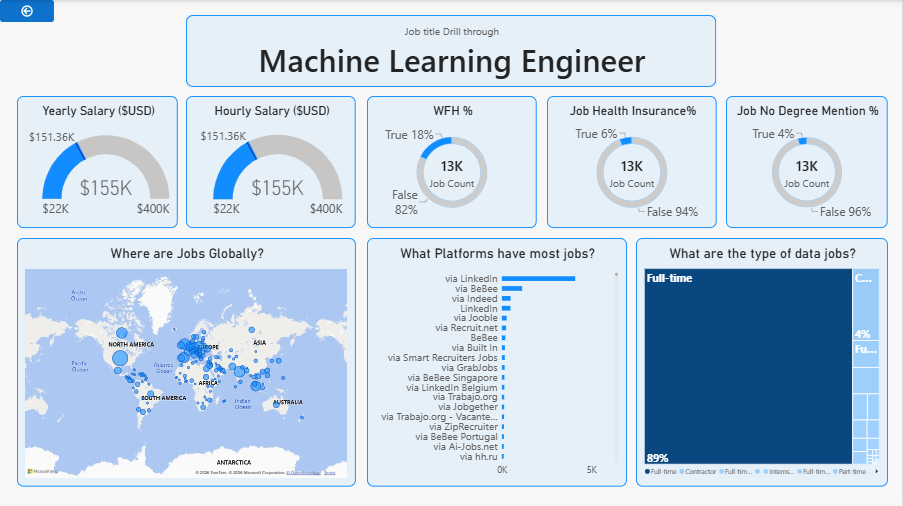

What the dashboard file says about the page in this screenshot:
{"tool":"powerbi","page":{"name":"Job Title Drill Through","canvas":[1920,1080],"ordinal":1},"visuals":[{"type":"cardVisual","fields":{"Data":["Min(job_postings_flat.job_title_short)1"]},"box":[170.1,19.1,1577.5,127.6],"z":0},{"type":"actionButton","box":[0,0,114.8,46.8],"z":1000},{"type":"gauge","title":"Yearly Salary ($USD)","fields":{"MaxValue":["Max(job_postings_flat.salary_year_avg)2"],"MinValue":["Min(job_postings_flat.salary_year_avg)1"],"TargetValue":["Avg(job_postings_flat.salary_year_avg)3"],"Y":["Median(job_postings_flat.salary_year_avg)"]},"box":[36.1,170,342.3,261.5],"z":2000},{"type":"gauge","title":"Hourly Salary ($USD)","fields":{"MaxValue":["Max(job_postings_flat.salary_year_avg)2"],"MinValue":["Min(job_postings_flat.salary_year_avg)1"],"TargetValue":["Avg(job_postings_flat.salary_year_avg)3"],"Y":["Median(job_postings_flat.salary_year_avg)"]},"box":[395.4,170,361.4,261.5],"z":3000},{"type":"donutChart","title":"WFH %","fields":{"Category":["job_postings_flat.job_work_from_home"],"Y":["CountNonNull(job_postings_flat.job_work_from_home)"]},"box":[780.2,170,361.4,261.5],"z":4000},{"type":"donutChart","title":"Job Health Insurance%","fields":{"Category":["job_postings_flat.job_health_insurance"],"Y":["CountNonNull(job_postings_flat.job_work_from_home)"]},"box":[1162.9,170.1,361.4,261.5],"z":5000},{"type":"donutChart","title":"Job No Degree Mention %","fields":{"Category":["job_postings_flat.job_no_degree_mention"],"Y":["CountNonNull(job_postings_flat.job_work_from_home)"]},"box":[1545.6,170,344.4,261.5],"z":6000},{"type":"map","title":"Where are Jobs Globally?","fields":{"Category":["job_postings_flat.job_country"],"Size":["CountNonNull(job_postings_flat.job_title_short)"]},"box":[36.1,450.7,720.7,529.4],"z":7000},{"type":"treemap","title":"What are the type of data jobs?","fields":{"Group":["job_postings_flat.job_schedule_type"],"Values":["CountNonNull(job_postings_flat.job_schedule_type)"]},"box":[1354.3,450.7,535.7,529.4],"z":8000},{"type":"barChart","title":"What Platforms have most jobs?","fields":{"Category":["job_postings_flat.job_via"],"Y":["CountNonNull(job_postings_flat.job_via)"]},"box":[780.2,450.7,552.8,529.4],"z":9000}]}

Visuals, with their boxes on the page's 1920x1080 design canvas (x1, y1, x2, y2). These are canvas units, not pixel positions in the 903x506 screenshot, which may show the page scaled, cropped or inside an application window:
cardVisual - Min(job_postings_flat.job_title_short)1: [x1=170, y1=19, x2=1748, y2=147]
actionButton: [x1=0, y1=0, x2=115, y2=47]
"Yearly Salary ($USD)" gauge: [x1=36, y1=170, x2=378, y2=432]
"Hourly Salary ($USD)" gauge: [x1=395, y1=170, x2=757, y2=432]
"WFH %" donutChart: [x1=780, y1=170, x2=1142, y2=432]
"Job Health Insurance%" donutChart: [x1=1163, y1=170, x2=1524, y2=432]
"Job No Degree Mention %" donutChart: [x1=1546, y1=170, x2=1890, y2=432]
"Where are Jobs Globally?" map: [x1=36, y1=451, x2=757, y2=980]
"What are the type of data jobs?" treemap: [x1=1354, y1=451, x2=1890, y2=980]
"What Platforms have most jobs?" barChart: [x1=780, y1=451, x2=1333, y2=980]
